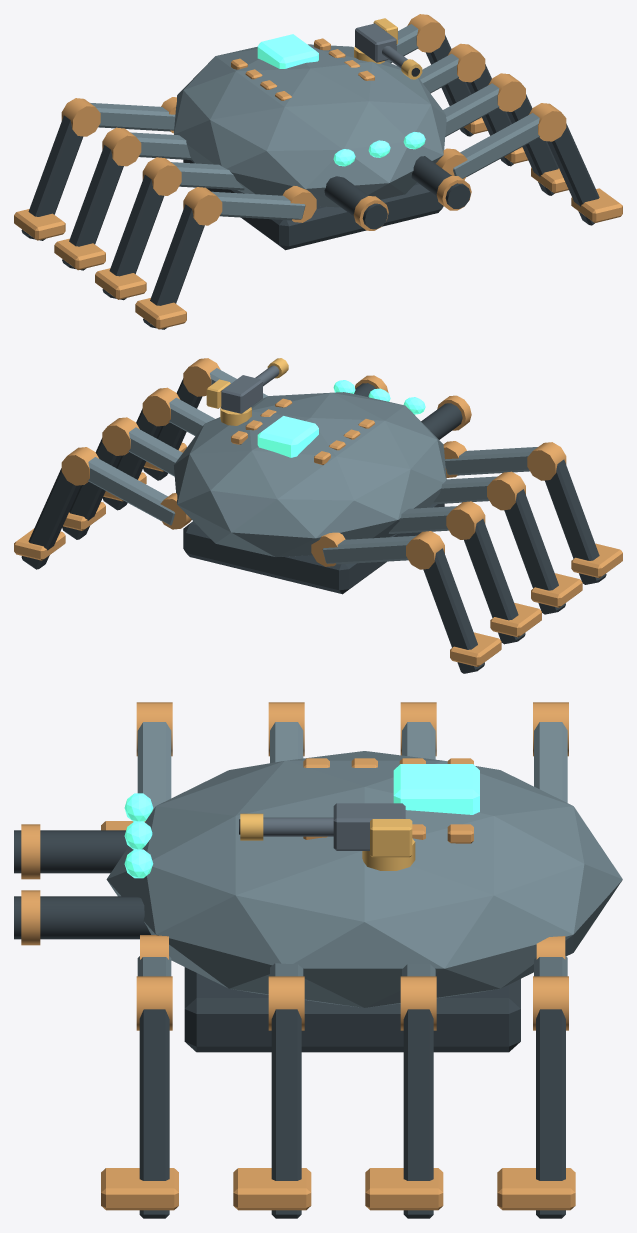
File: boss-spider.glb
3 renders of one model, top to bottom at view 1: azimuth 30°, elevation 25°; view 2: azimuth 150°, elevation 25°; view 3: azimuth 270°, elevation 25°, orthographic. The views are drawn at different scales.
Parts seen in each view (by area): view 1: Segmented carapace, Underbody, Forward plasma gun, Hip servo, Lower strut.004, Lower strut.002, Lower strut.006, Lower strut, Hip servo.001, Hip servo.006, Upper leg.001, Hip servo.004 (+20 smaller); view 2: Segmented carapace, Underbody, Hip servo.006, Lower strut.002, Lower strut.006, Lower strut.004, Lower strut, Hip servo, Upper leg.007, Hip servo.007, Hip servo.004, Hip servo.002 (+19 smaller); view 3: Segmented carapace, Underbody, Forward plasma gun, Lower strut.001, Lower strut.003, Lower strut.005, Lower strut.007, Hip servo.001, Hip servo.007, Hip servo.005, Hip servo.003, Core (+12 smaller).
Boxes of the visible parts, box(x1,y1,x2,y2) form: Segmented carapace: box(174, 44, 446, 207); Underbody: box(183, 159, 443, 250); Forward plasma gun: box(324, 156, 470, 229); Hip servo: box(135, 186, 316, 329); Lower strut.004: box(62, 145, 123, 270); Lower strut.002: box(102, 175, 164, 300); Lower strut.006: box(21, 115, 83, 240); Lower strut: box(143, 204, 204, 329); Hip servo.001: box(435, 103, 622, 222); Hip servo.006: box(14, 97, 176, 240); Upper leg.001: box(453, 113, 539, 178); Hip servo.004: box(54, 127, 141, 270); Segmented carapace: box(174, 392, 446, 556); Underbody: box(183, 503, 444, 594); Hip servo.006: box(311, 531, 501, 666); Lower strut.002: box(504, 489, 565, 614); Lower strut.006: box(423, 548, 484, 673); Lower strut.004: box(464, 519, 525, 644); Lower strut: box(545, 459, 606, 584); Hip servo: box(443, 441, 622, 578); Upper leg.007: box(88, 457, 175, 525); Hip servo.007: box(14, 447, 191, 560); Hip servo.004: box(446, 501, 541, 637); Hip servo.002: box(487, 471, 582, 607); Segmented carapace: box(106, 751, 622, 1007); Underbody: box(184, 967, 520, 1052); Forward plasma gun: box(14, 830, 150, 939); Lower strut.001: box(139, 1009, 169, 1218); Lower strut.003: box(271, 1009, 301, 1218); Lower strut.005: box(403, 1009, 433, 1218); Lower strut.007: box(536, 1009, 565, 1218); Hip servo.001: box(101, 935, 178, 1210); Hip servo.007: box(497, 936, 575, 1210); Hip servo.005: box(365, 976, 443, 1210); Hip servo.003: box(233, 976, 311, 1210); Core: box(393, 764, 479, 814).
Size of the model in its own units: 7.32 by 2.67 by 5.07.
